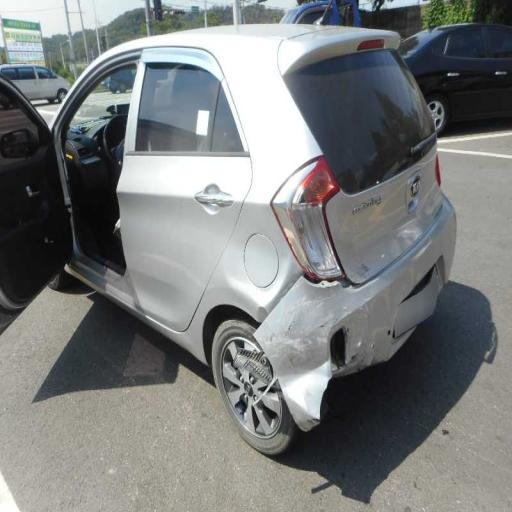broken: (237, 201, 366, 460)
